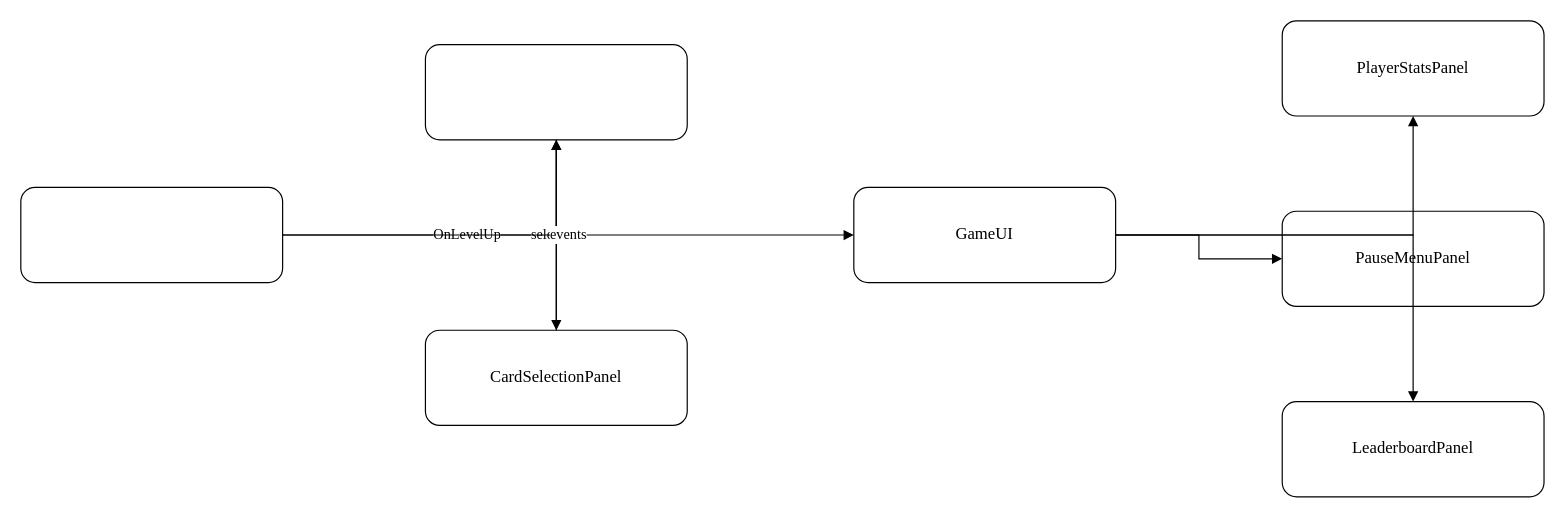
Some shapes in this 1565 by 518 pixel diagram are drawn without their labels. Here are the shapes that lost their labels. From the top down, the box of each, then its label:
(424, 43, 687, 140): BuffCardManager
(20, 186, 283, 283): PlayerLevelSystem
